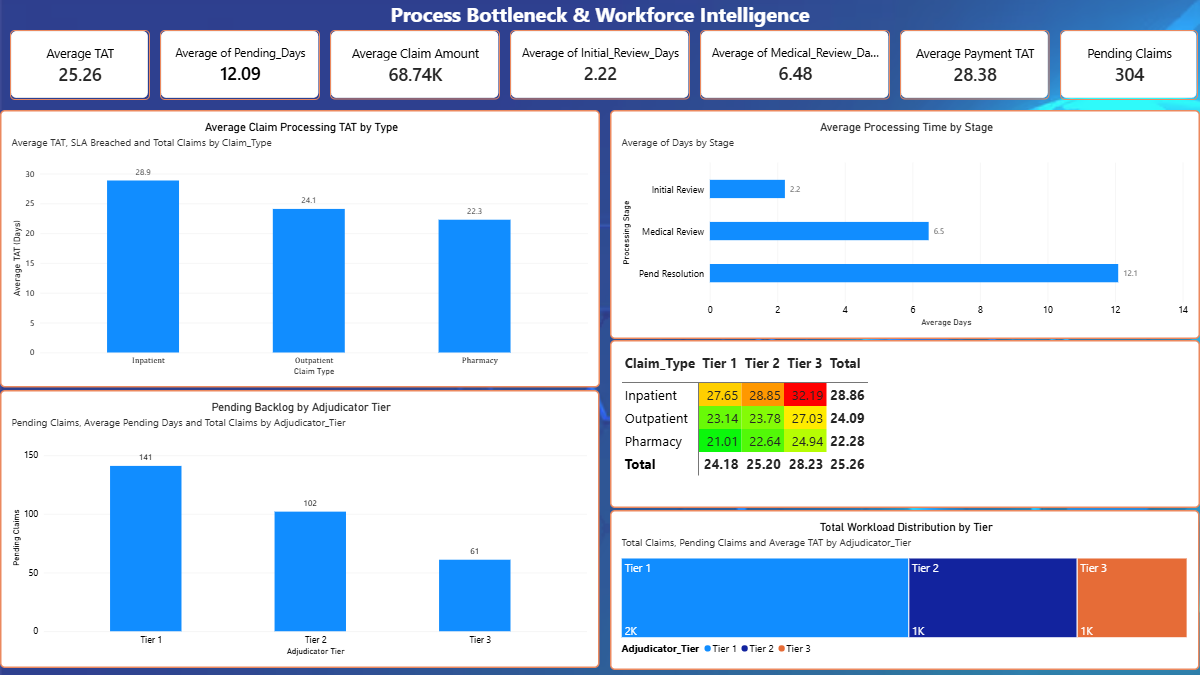

This screenshot's page, from the dashboard's own definition file:
{"tool":"powerbi","page":{"name":"Process Bottleneck & Workforce Intelligence","canvas":[1920,1080],"ordinal":1},"visuals":[{"type":"textbox","box":[0,0,1920,48],"z":0},{"type":"clusteredBarChart","title":"Average Processing Time by Stage","fields":{"Category":["Stage Analysis.Stage"],"Y":["Avg(Stage Analysis.Days)"]},"box":[976,176,944,366],"z":1000},{"type":"clusteredColumnChart","title":"Pending Backlog by Adjudicator Tier","fields":{"Category":["claims_enriched.Adjudicator_Tier"],"Y":["claims_enriched.Pending Claims"]},"box":[0,624,959,445],"z":2000},{"type":"clusteredColumnChart","title":"Average Claim Processing TAT by Type","fields":{"Category":["claims_enriched.Claim_Type"],"Y":["claims_enriched.Average TAT"]},"box":[0,176,960,444],"z":3000},{"type":"pivotTable","fields":{"Columns":["claims_enriched.Adjudicator_Tier"],"Rows":["claims_enriched.Claim_Type"],"Values":["claims_enriched.Average TAT"]},"box":[976,544,944,269],"z":4000},{"type":"treemap","title":"Total Workload Distribution by Tier","fields":{"Group":["claims_enriched.Adjudicator_Tier"],"Values":["claims_enriched.Total Claims"]},"box":[976,816,943,256],"z":5000},{"type":"cardVisual","fields":{"Data":["claims_enriched.Average TAT"]},"box":[16,48,224,112],"z":6000},{"type":"cardVisual","fields":{"Data":["Avg(claims_enriched.Initial_Review_Days)"]},"box":[816,48,288,111],"z":7000},{"type":"cardVisual","fields":{"Data":["Avg(claims_enriched.Medical_Review_Days)"]},"box":[1120,48,304,111],"z":8000},{"type":"cardVisual","fields":{"Data":["Avg(claims_enriched.Pending_Days)"]},"box":[256,48,256,112],"z":9000},{"type":"cardVisual","fields":{"Data":["claims_enriched.Average Payment TAT"]},"box":[1440,48,239,111],"z":10000},{"type":"cardVisual","fields":{"Data":["claims_enriched.Pending Claims"]},"box":[1696,48,221,112],"z":11000},{"type":"cardVisual","fields":{"Data":["Stage Analysis.Average Claim Amount"]},"box":[528,48,272,111],"z":12000}]}

Visuals, with their boxes in screenshot pixels (x1, y1, x2, y2), scaled from the page's 1920x1080 canvas onto the 1200x675 screenshot:
textbox: box=[0, 0, 1199, 30]
"Average Processing Time by Stage" clusteredBarChart: box=[610, 110, 1199, 339]
"Pending Backlog by Adjudicator Tier" clusteredColumnChart: box=[0, 390, 599, 668]
"Average Claim Processing TAT by Type" clusteredColumnChart: box=[0, 110, 600, 388]
pivotTable - claims_enriched.Adjudicator_Tier x claims_enriched.Claim_Type: box=[610, 340, 1199, 508]
"Total Workload Distribution by Tier" treemap: box=[610, 510, 1199, 670]
cardVisual - claims_enriched.Average TAT: box=[10, 30, 150, 100]
cardVisual - Avg(claims_enriched.Initial_Review_Days): box=[510, 30, 690, 99]
cardVisual - Avg(claims_enriched.Medical_Review_Days): box=[700, 30, 890, 99]
cardVisual - Avg(claims_enriched.Pending_Days): box=[160, 30, 320, 100]
cardVisual - claims_enriched.Average Payment TAT: box=[900, 30, 1049, 99]
cardVisual - claims_enriched.Pending Claims: box=[1060, 30, 1198, 100]
cardVisual - Stage Analysis.Average Claim Amount: box=[330, 30, 500, 99]
